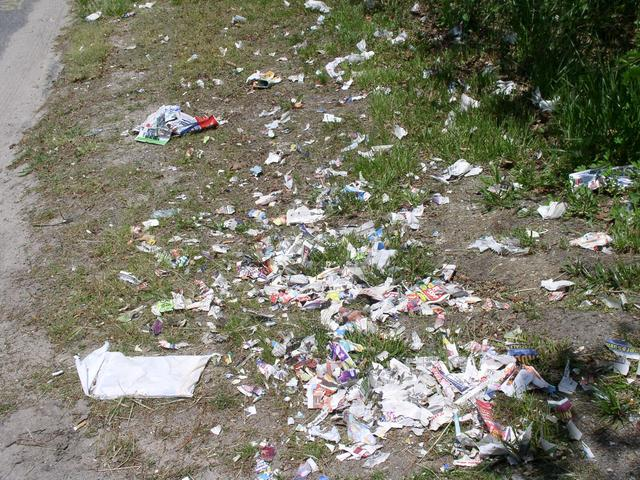garbage: (208, 79, 461, 443)
